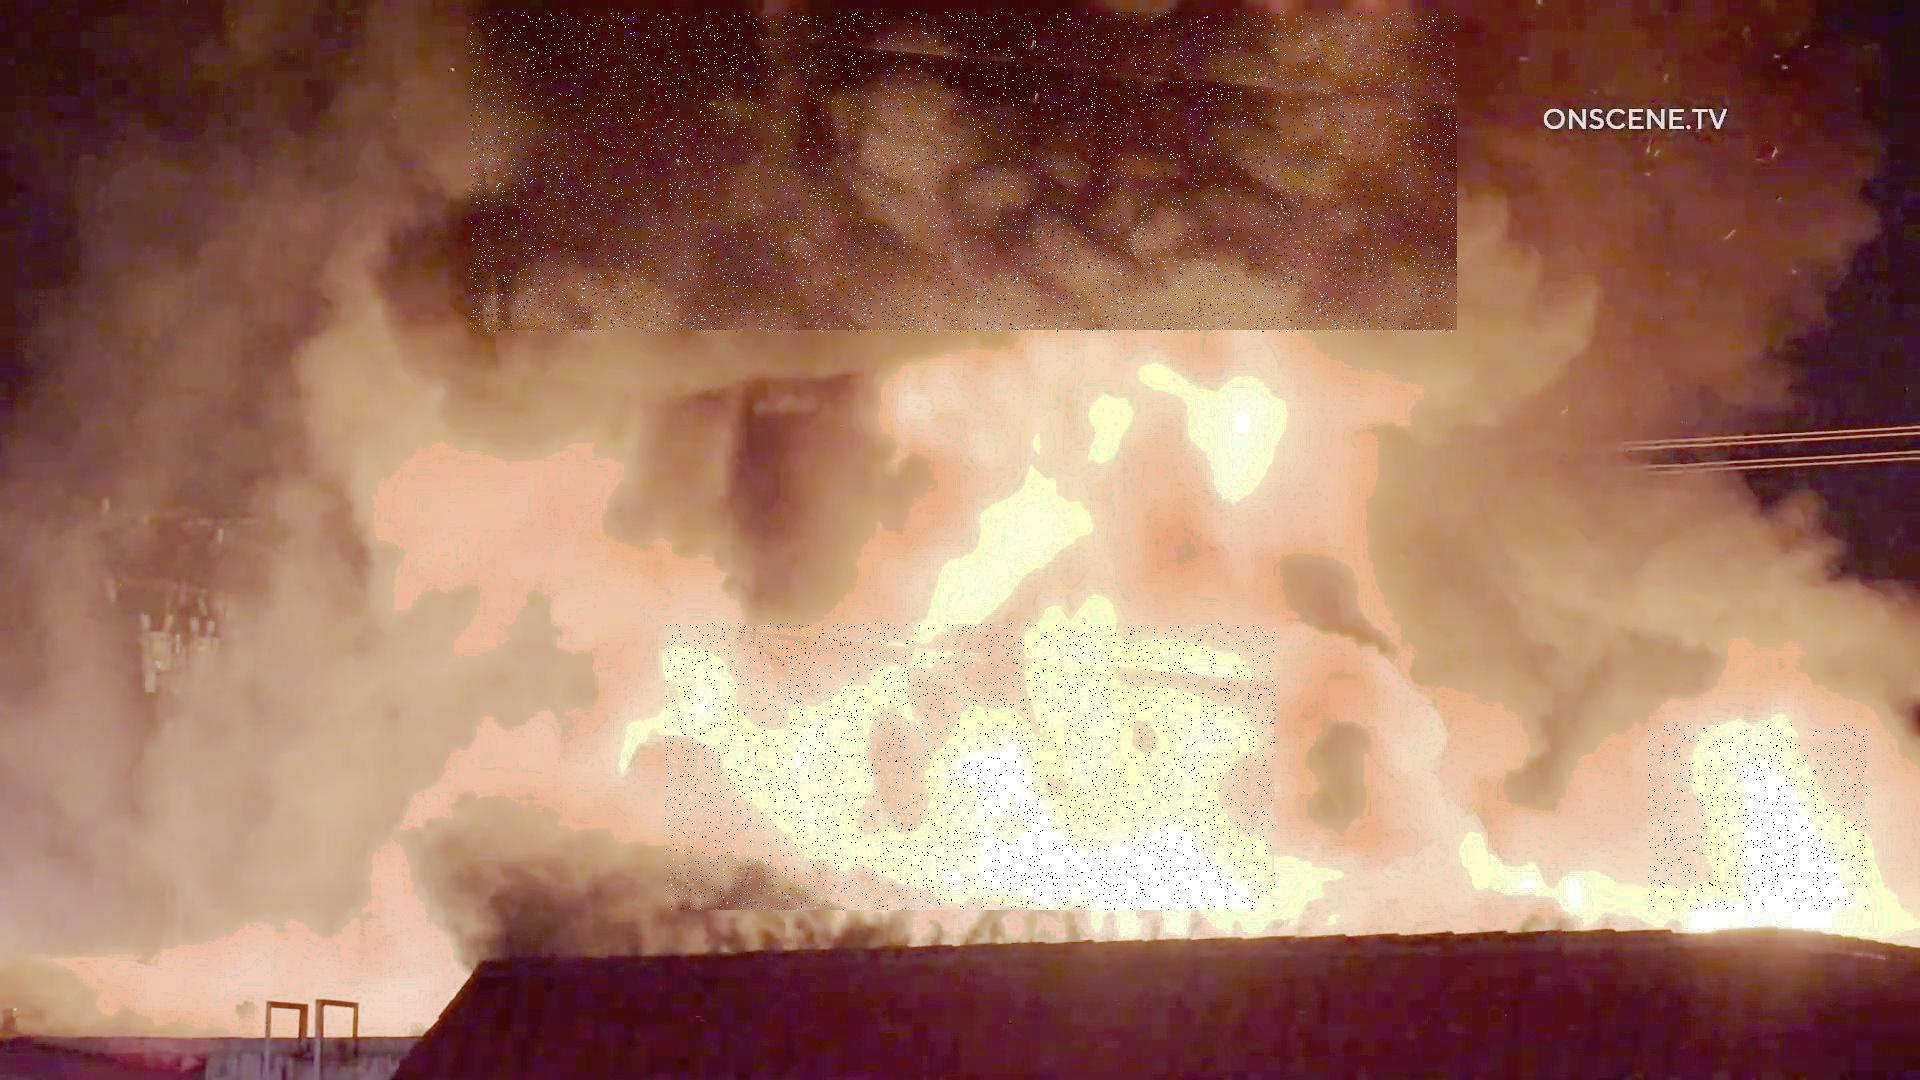fire: (666, 624, 1276, 910), (1648, 725, 1867, 910)
smoke: (471, 13, 1457, 332)
